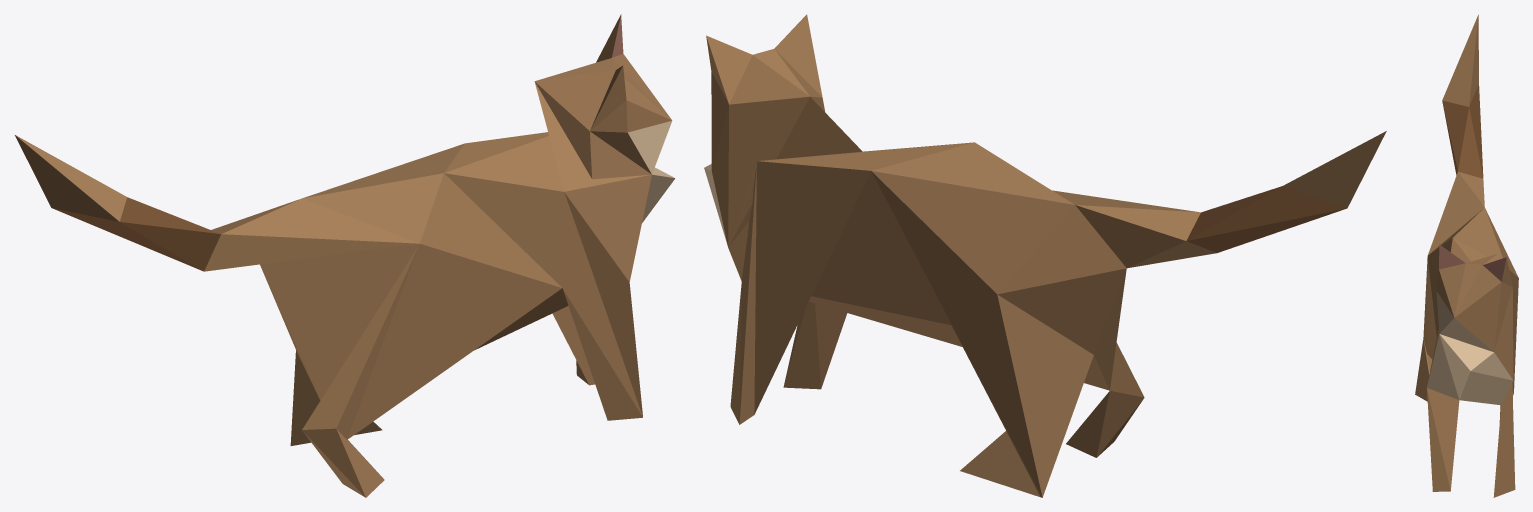
The model's file is cat_100.glb.
The picture shows the model from 3 angles, left to right: view 1: azimuth 30°, elevation 25°; view 2: azimuth 150°, elevation 25°; view 3: azimuth 270°, elevation 25°; orthographic projection. The views are drawn at different scales.
Parts seen in each view (by area): view 1: cat_100; view 2: cat_100; view 3: cat_100.
Part boxes in pixels (x1=…): cat_100: x1=15, y1=14, x2=675, y2=497; cat_100: x1=704, y1=14, x2=1386, y2=497; cat_100: x1=1415, y1=14, x2=1518, y2=497.
Size of the model in its own units: 0.6704 by 0.3951 by 0.1337.
